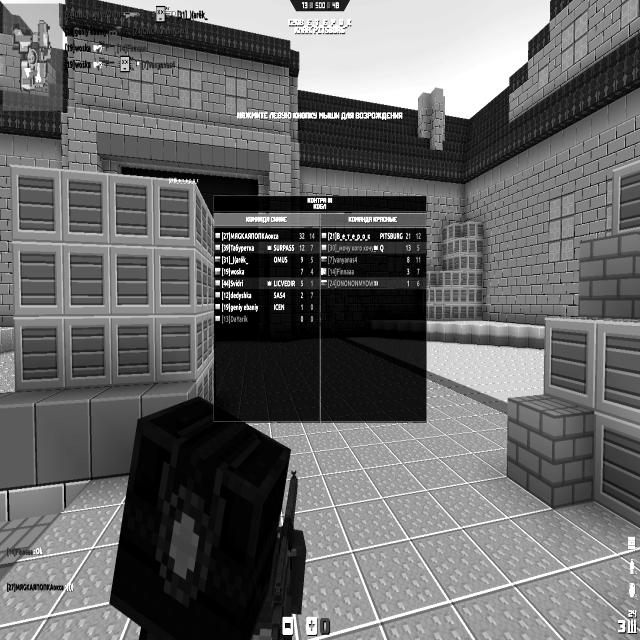Head: (120, 413, 290, 617)
Player: (106, 396, 298, 640)
